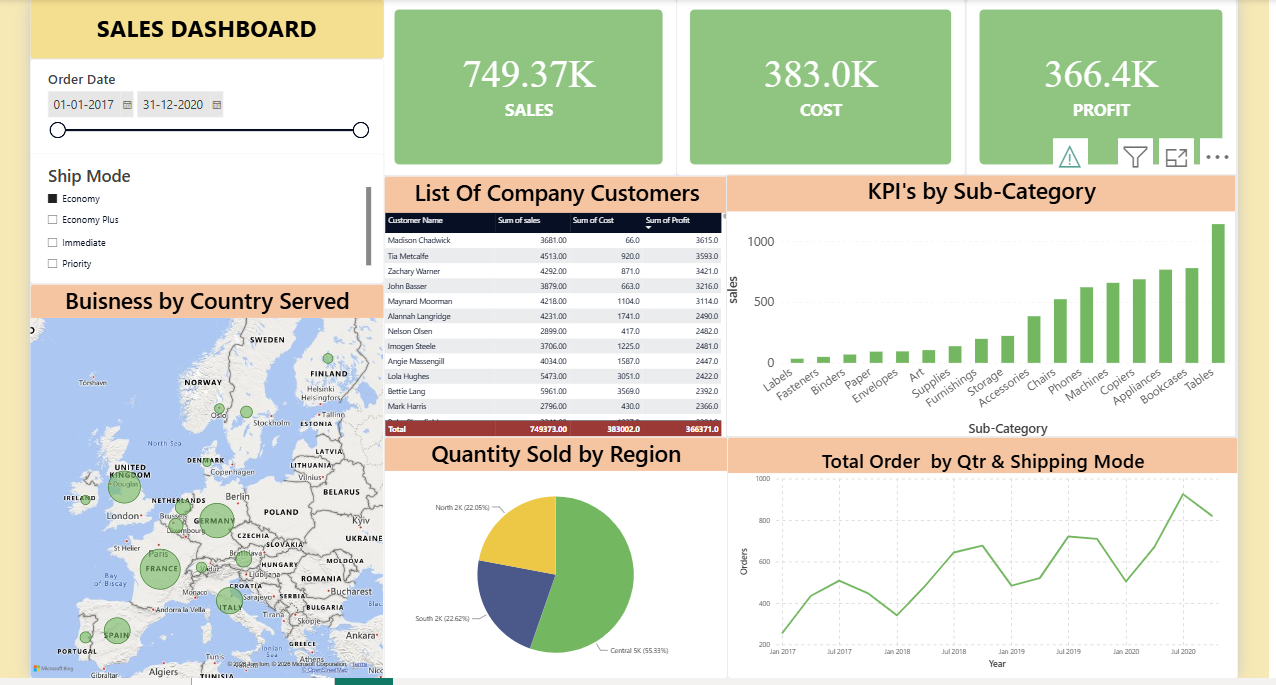

The dashboard page shown, as its layout file describes it:
{"tool":"powerbi","page":{"name":"SALES KPI","canvas":[1920,1080],"ordinal":0},"visuals":[{"type":"cardVisual","fields":{"Data":["Sum(List of Orders.sales)"]},"box":[558.3,0,470.6,280.6],"z":0},{"type":"cardVisual","fields":{"Data":["Sum(List of Orders.Cost)"]},"box":[1029,0,459.2,280.6],"z":1000},{"type":"cardVisual","fields":{"Data":["Sum(List of Orders.Profit)"]},"box":[1488.2,0,430.9,280.6],"z":2000},{"type":"tableEx","title":"List Of Company Customers","fields":{"Values":["List of Orders.Customer Name","Sum(List of Orders.Sales)","Sum(List of Orders.Cost)","Sum(List of Orders.Profit)"]},"box":[563.1,281.5,549,415.3],"z":3000},{"type":"pieChart","title":"Quantity Sold by Region","fields":{"Category":["List of Orders.Region"],"Y":["Sum(List of Orders.Quantity)"]},"box":[563.1,696.8,546.7,384.8],"z":4000},{"type":"clusteredColumnChart","title":"KPI''s by Sub-Category","fields":{"Category":["List of Orders.Sub-Category"],"Y":["Avg(List of Orders.Sales)"]},"box":[1107.4,279.2,811.8,417.6],"z":5000},{"type":"map","title":"Buisness by Country Served","fields":{"Category":["List of Orders.Country"],"Size":["Sum(List of Orders.Sales)"]},"box":[0,453.3,563.1,627.5],"z":6000},{"type":"slicer","fields":{"Values":["List of Orders.Order Date"]},"box":[0,96.2,563.1,183],"z":7000},{"type":"slicer","fields":{"Values":["List of Orders.Ship Mode"]},"box":[0,246.4,563.1,206.5],"z":8000},{"type":"lineChart","title":"Total Order  by Qtr & Shipping Mode","fields":{"Category":["List of Orders.Order Date.Variation.Date Hierarchy.Year","List of Orders.Order Date.Variation.Date Hierarchy.Quarter","List of Orders.Order Date.Variation.Date Hierarchy.Month","List of Orders.Order Date.Variation.Date Hierarchy.Day"],"Y":["Sum(List of Orders.Quantity)"]},"box":[1109.8,696.8,811.8,384.8],"z":9000},{"type":"textbox","box":[0,0,563.1,95.4],"z":11000}]}

Visuals, with their boxes on the page's 1920x1080 design canvas (x1, y1, x2, y2). These are canvas units, not pixel positions in the 1276x685 screenshot, which may show the page scaled, cropped or inside an application window:
cardVisual - Sum(List of Orders.sales): (558,0,1029,281)
cardVisual - Sum(List of Orders.Cost): (1029,0,1488,281)
cardVisual - Sum(List of Orders.Profit): (1488,0,1919,281)
"List Of Company Customers" tableEx: (563,282,1112,697)
"Quantity Sold by Region" pieChart: (563,697,1110,1082)
"KPI''s by Sub-Category" clusteredColumnChart: (1107,279,1919,697)
"Buisness by Country Served" map: (0,453,563,1081)
slicer - List of Orders.Order Date: (0,96,563,279)
slicer - List of Orders.Ship Mode: (0,246,563,453)
"Total Order  by Qtr & Shipping Mode" lineChart: (1110,697,1922,1082)
textbox: (0,0,563,95)
